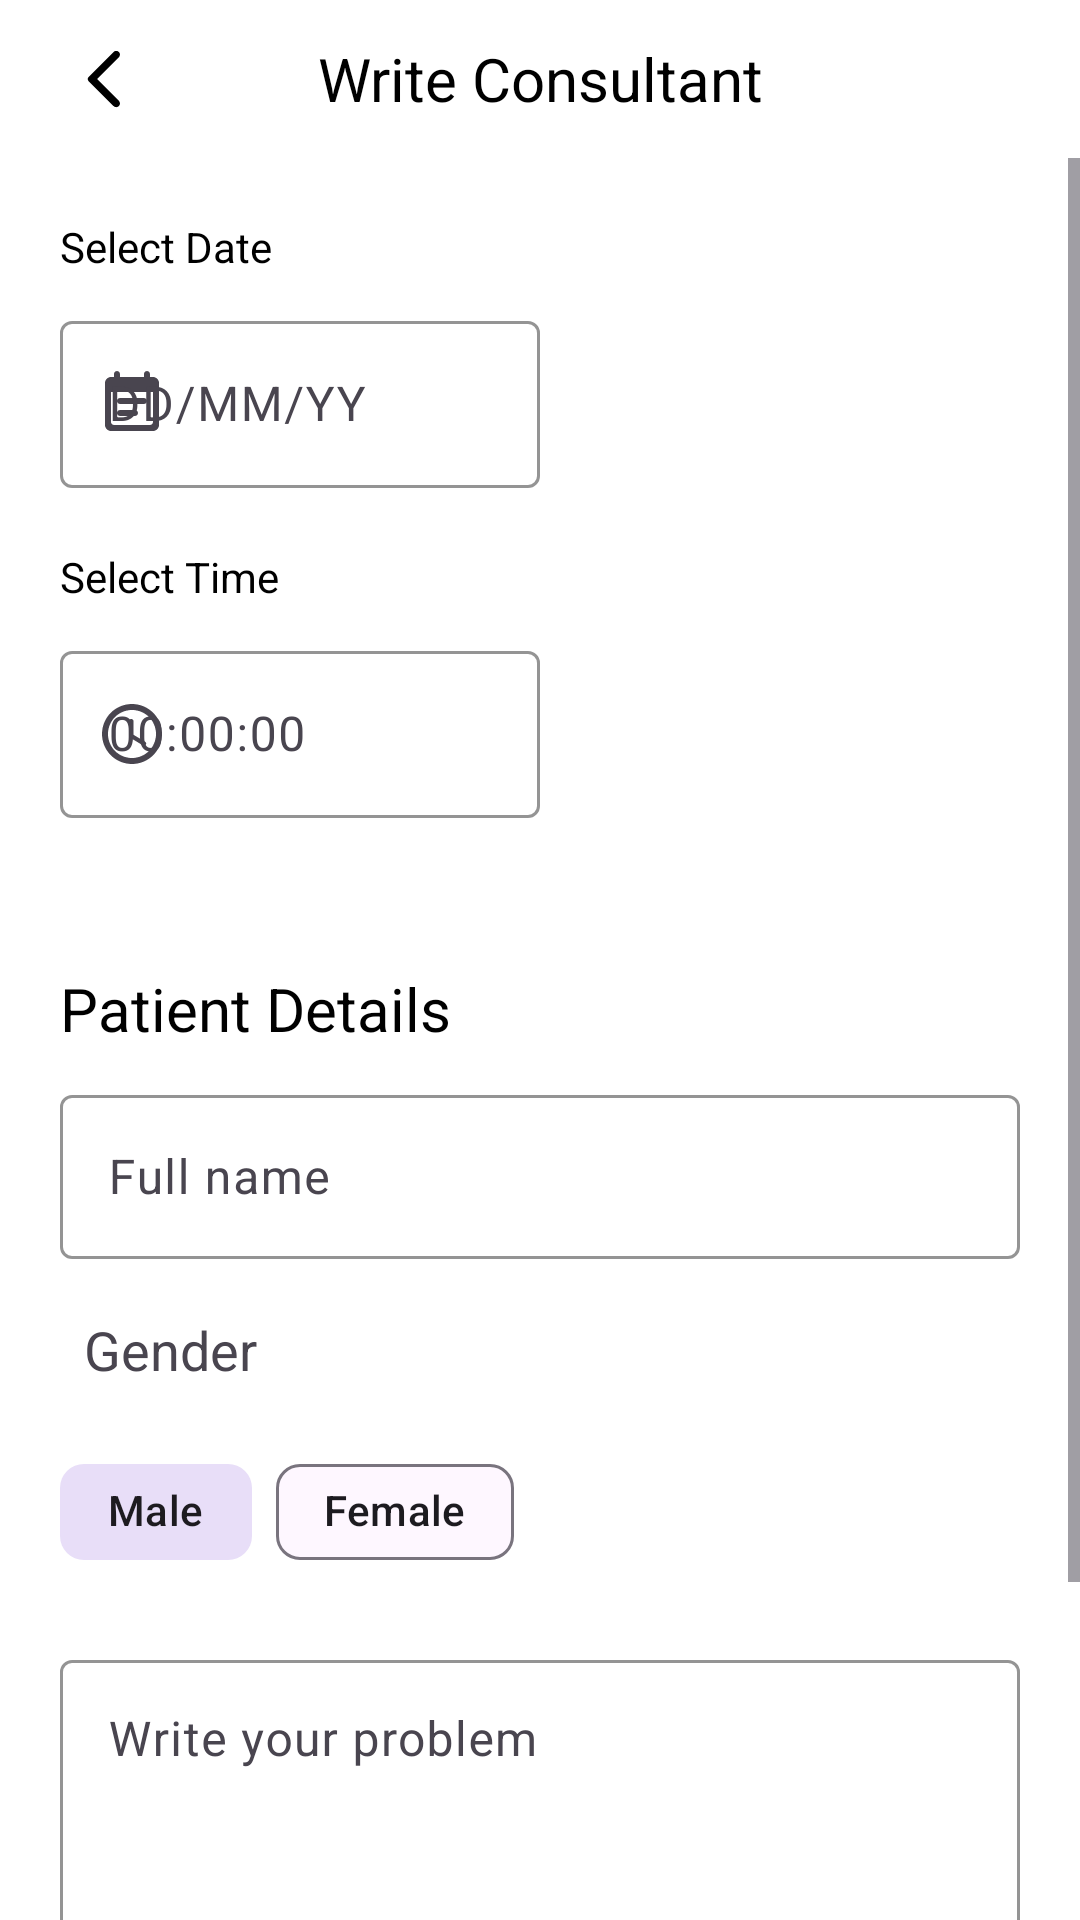

Icons on this 1080px×1920px Android screen, each with the point to tap as (x=x, y=y):
back: (x=103, y=79)
